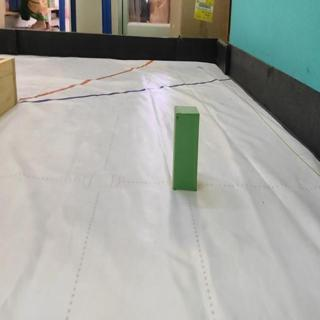greenbox: (174, 103, 201, 190)
